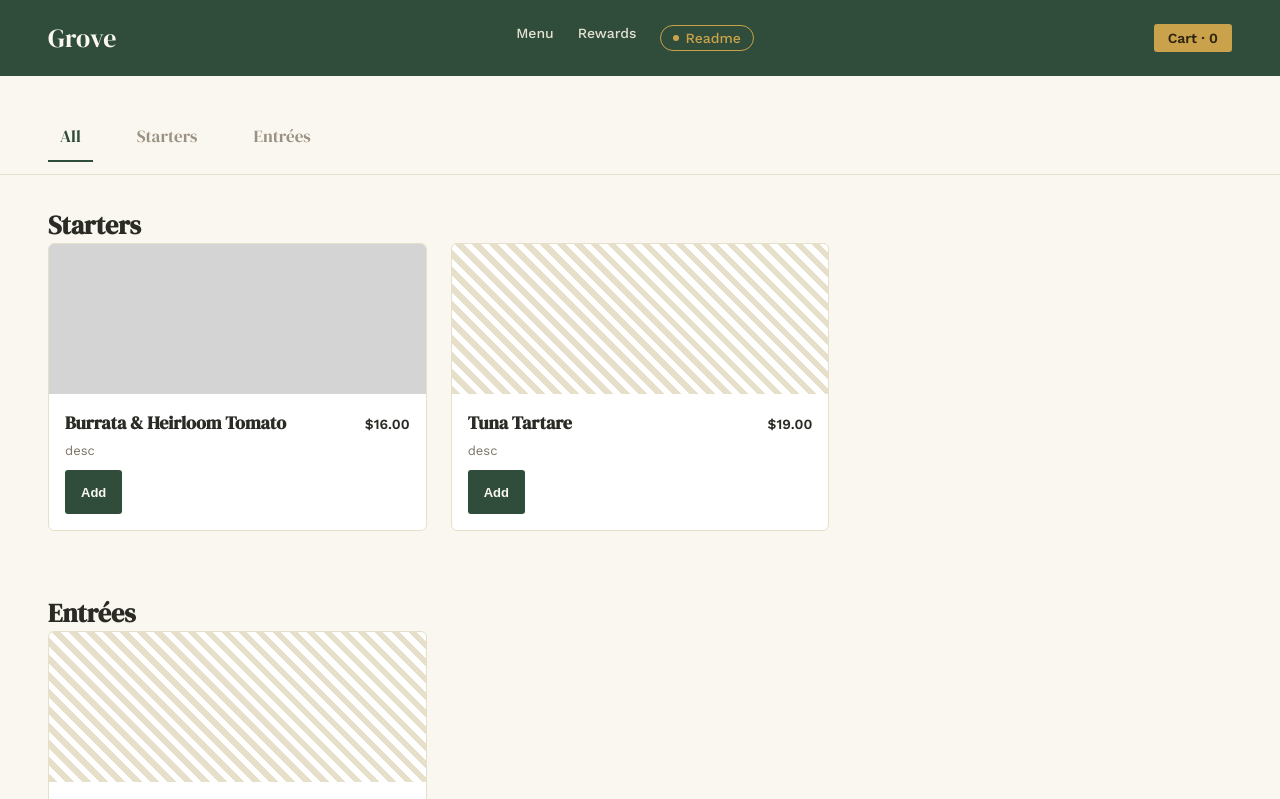
Test: MenuView › returns to the grouped All view when the All tab is re-selected
The width and height of the screenshot is (1280, 799).
Click the button with class "tab" showing "Entrées" at [282, 137], box [242,112,323,162]
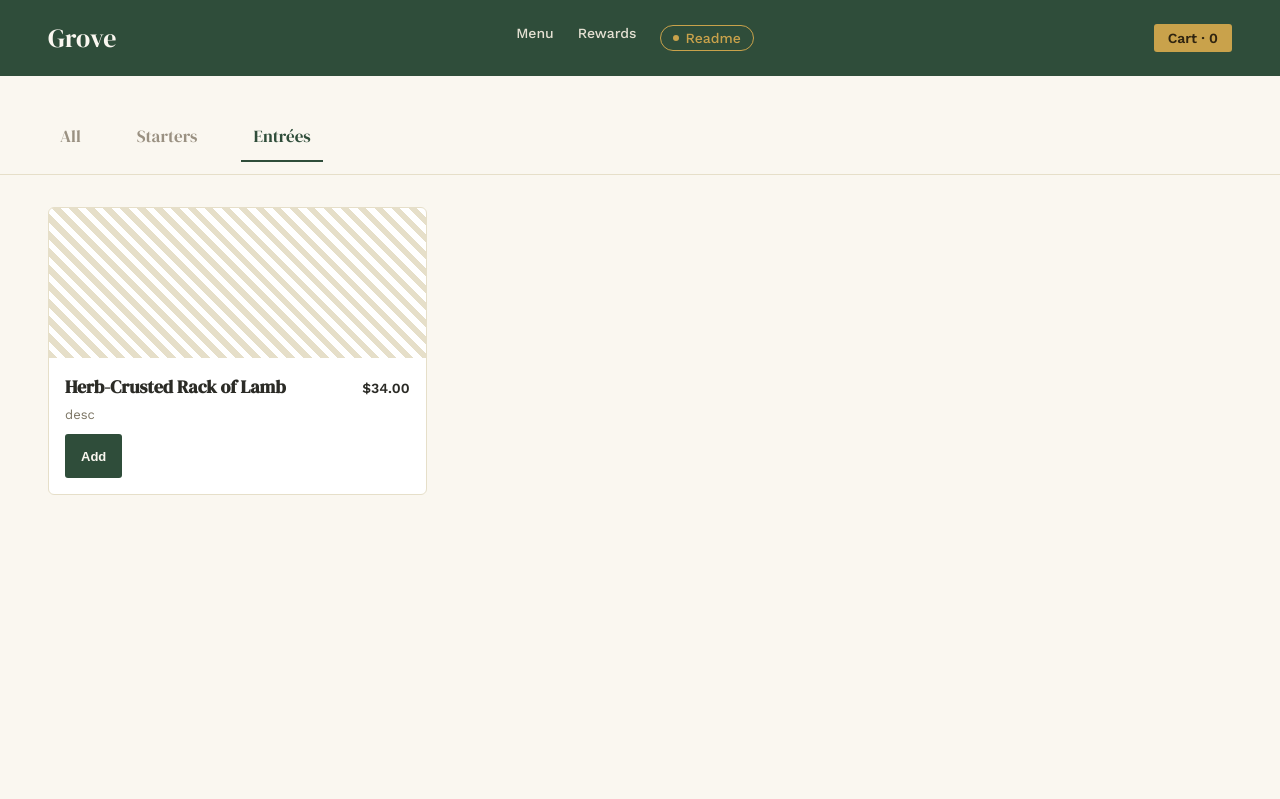
Click the button with class "tab" showing "All" at [70, 137], box [48,112,93,162]
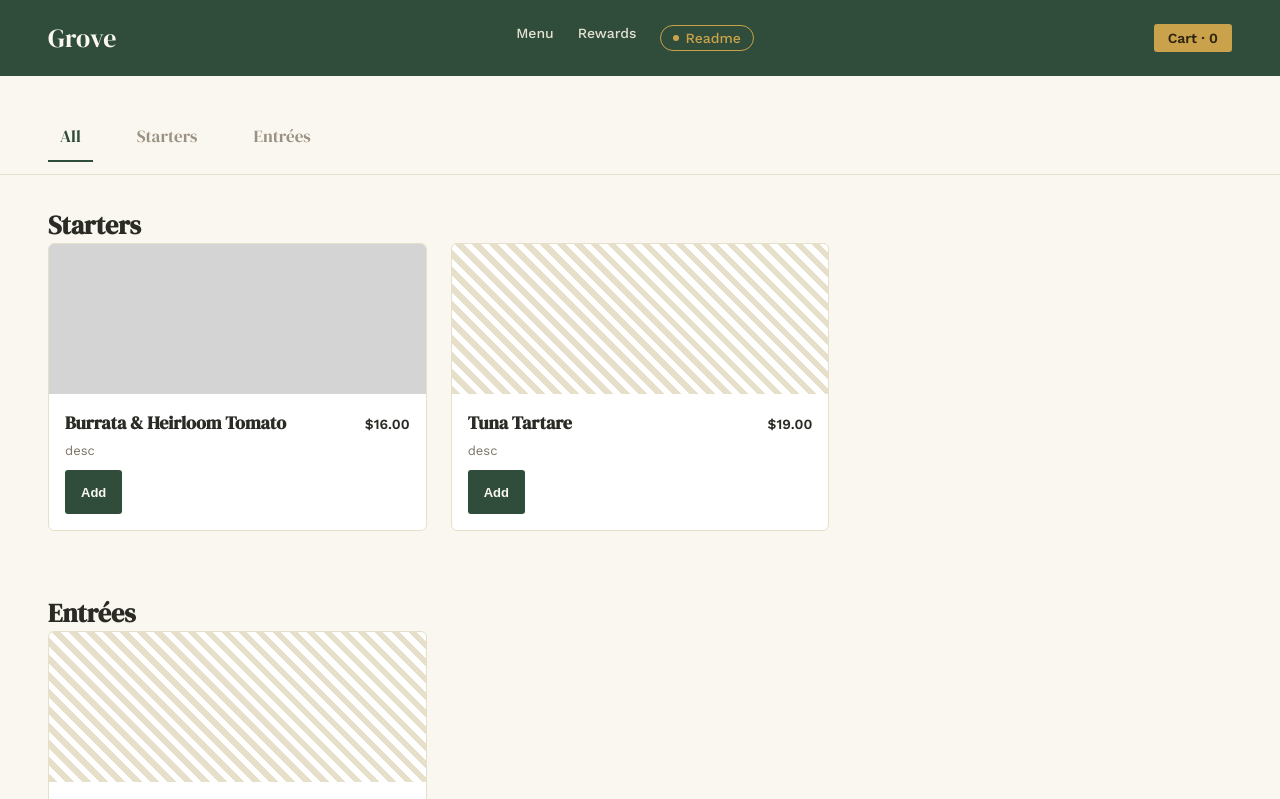
Result: the text "Burrata & Heirloom Tomato" is shown at [65,410,286,435]
Result: the number of headings with class "category-heading" is 2 at [48,207,141,243]; [48,595,136,631]
